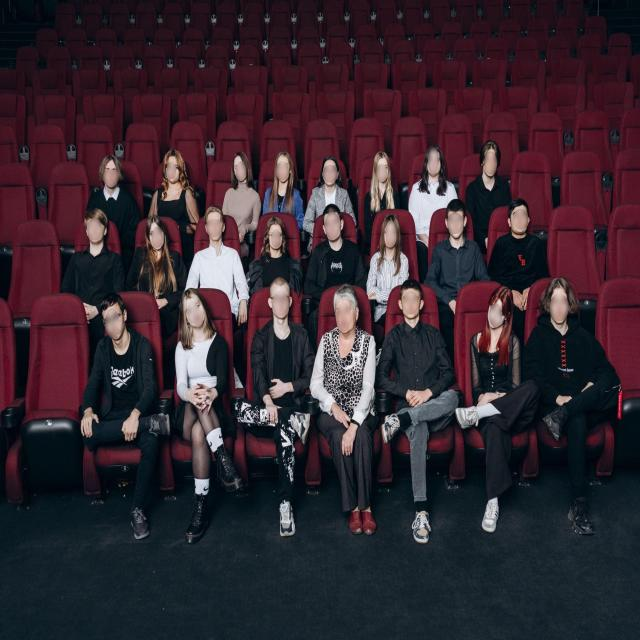Person: (530, 269, 631, 552), (75, 290, 177, 544), (382, 283, 468, 552), (166, 288, 248, 556), (464, 283, 542, 554), (314, 282, 392, 544), (244, 278, 319, 543), (54, 212, 130, 299), (493, 196, 554, 292), (428, 196, 490, 286), (186, 206, 251, 291), (360, 206, 420, 295), (306, 206, 366, 290), (130, 212, 185, 298), (411, 134, 467, 218), (147, 148, 205, 222), (86, 154, 140, 226), (253, 206, 296, 293), (221, 153, 264, 235), (470, 132, 512, 214), (361, 142, 408, 212), (309, 150, 359, 211), (263, 150, 306, 218)
